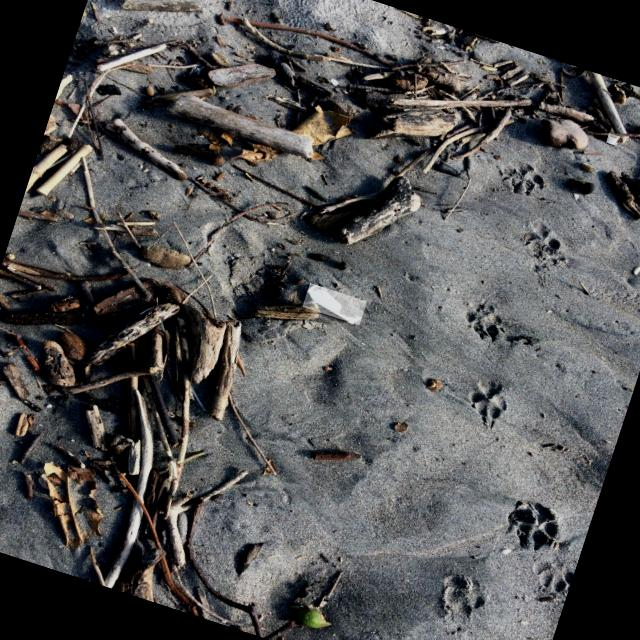Bottle cap: (607, 136, 619, 145)
Other plastic bottle: (307, 286, 361, 324)
